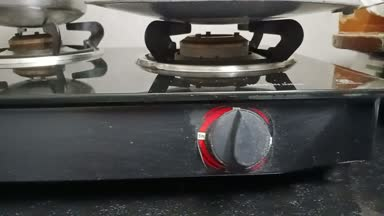noflame_gason: (142, 22, 317, 177)
